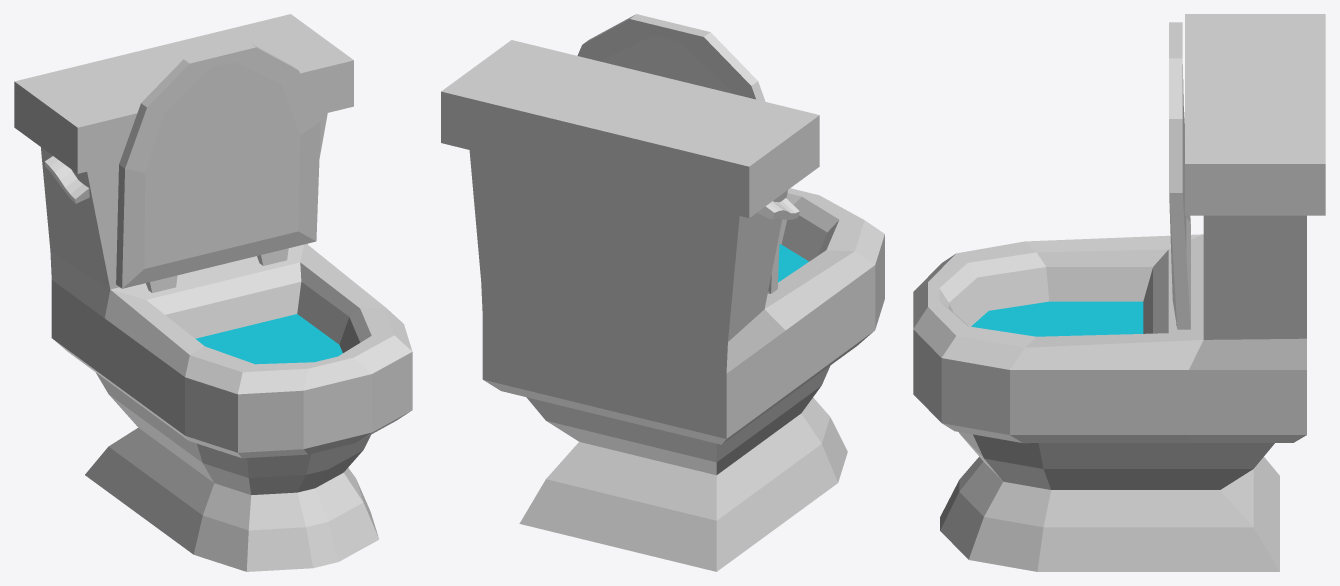
Rendered from toilet.glb.
3 views of the same model, side by side, from view 1: azimuth 30°, elevation 25°; view 2: azimuth 150°, elevation 25°; view 3: azimuth 270°, elevation 25° (orthographic). The views are drawn at different scales.
Visible parts, largest first — view 1: Toilet.001, Toilet Seat.001, Water.001, Flush Lever.001; view 2: Toilet.001, Toilet Seat.001, Water.001, Flush Lever.001; view 3: Toilet.001, Water.001, Toilet Seat.001.
Part boxes in pixels (x1,y1,x2,y2): Toilet.001: (14,14,412,571); Toilet Seat.001: (116,43,320,292); Water.001: (195,314,342,364); Flush Lever.001: (44,156,89,203); Toilet.001: (441,40,884,571); Toilet Seat.001: (577,14,779,293); Water.001: (778,244,808,282); Flush Lever.001: (758,198,799,219); Toilet.001: (913,14,1325,571); Water.001: (971,301,1143,336); Toilet Seat.001: (1169,22,1190,329).
Size of the model in its own units: 0.6318 by 0.9487 by 0.7335.
